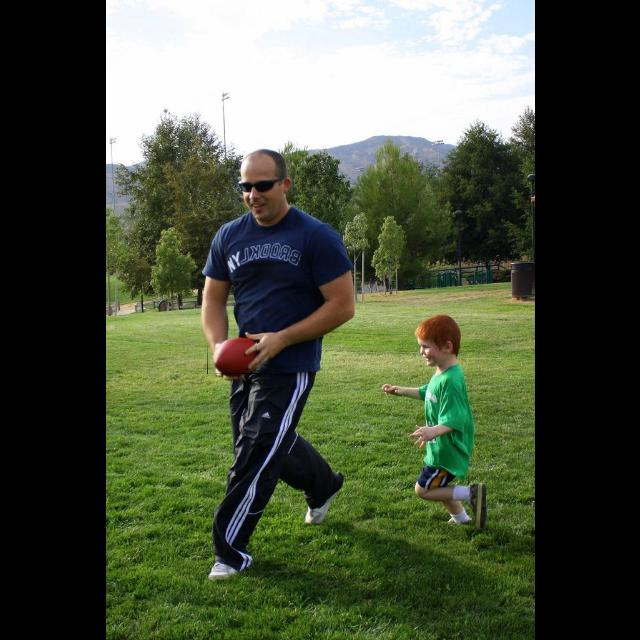Football: (207, 340, 257, 374)
